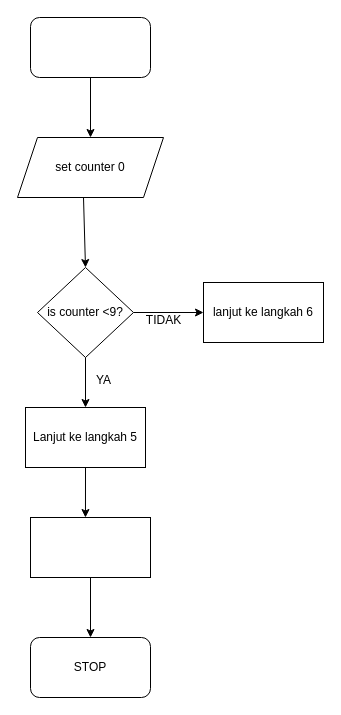
This 341x715 diagram has some shape labels left out. Here are the shapes that lost their labels. From the top down, the box of each, then its label:
(30, 16, 150, 78): START
(30, 516, 150, 578): Tambahkan 1 ke counter, lalu kembali ke langkah 3
